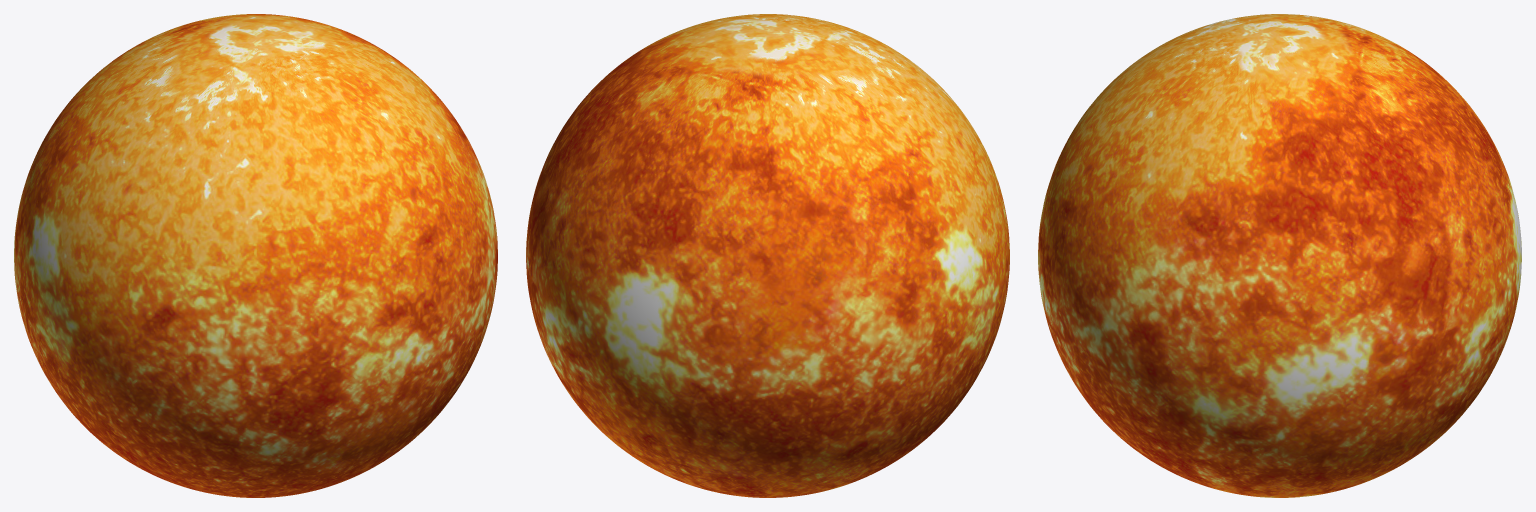
File: space_sun.glb
3 renders of one model, left to right at view 1: azimuth 30°, elevation 25°; view 2: azimuth 150°, elevation 25°; view 3: azimuth 270°, elevation 25°, orthographic.
Visible parts, largest first — view 1: node_id59_1; view 2: node_id59_1; view 3: node_id59_1.
Boxes of the visible parts, bbox=[...] form: node_id59_1: bbox=[14, 14, 497, 497]; node_id59_1: bbox=[526, 14, 1009, 497]; node_id59_1: bbox=[1038, 14, 1521, 497].
Bounding box in the file's own units: 0.6054 × 0.6054 × 0.6054.
Materials: 1 (1 with a texture image).
